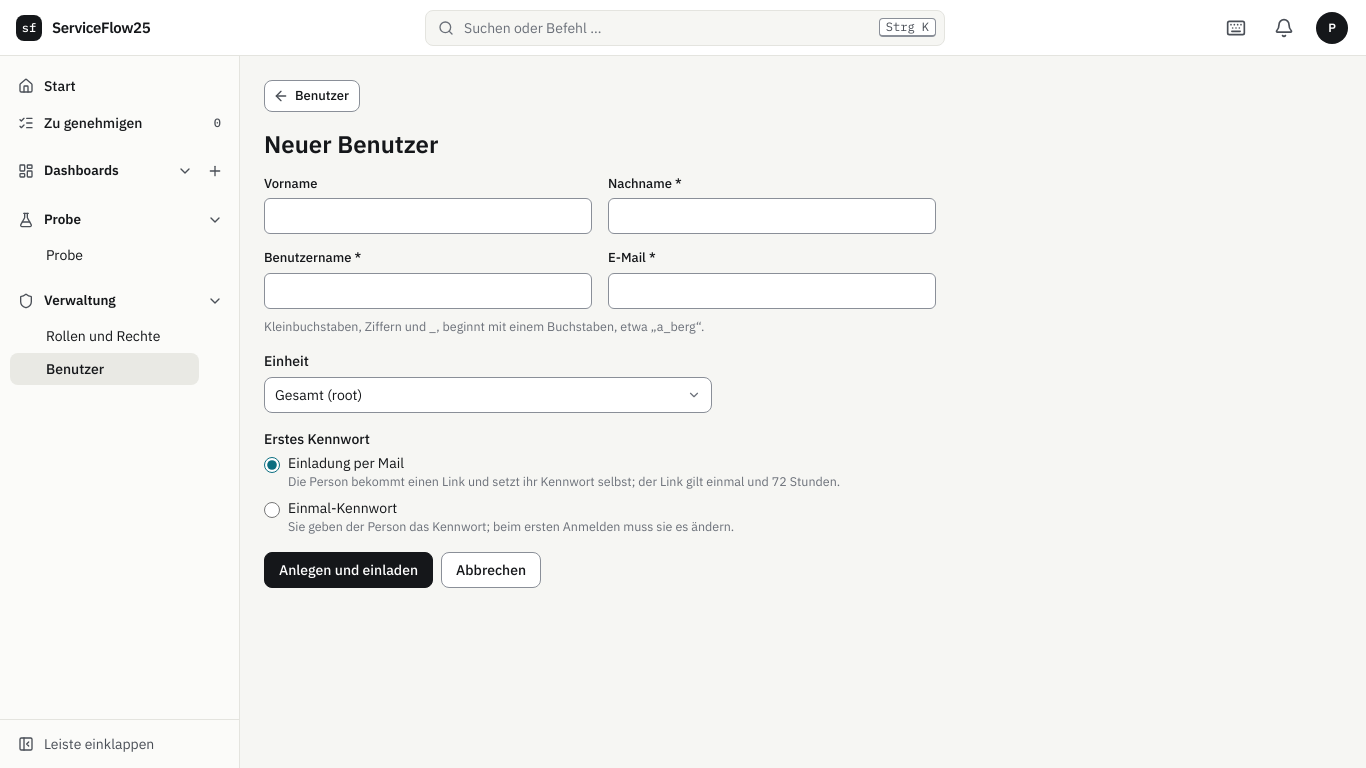
Test: UsersPage › says without a mail server that an invitation cannot go out
Check: the heading "Neuer Benutzer" is shown, box [264, 128, 438, 160]
Type "Ohne" into the field labelled "Nachname *" at [772, 216], box [608, 198, 936, 234]
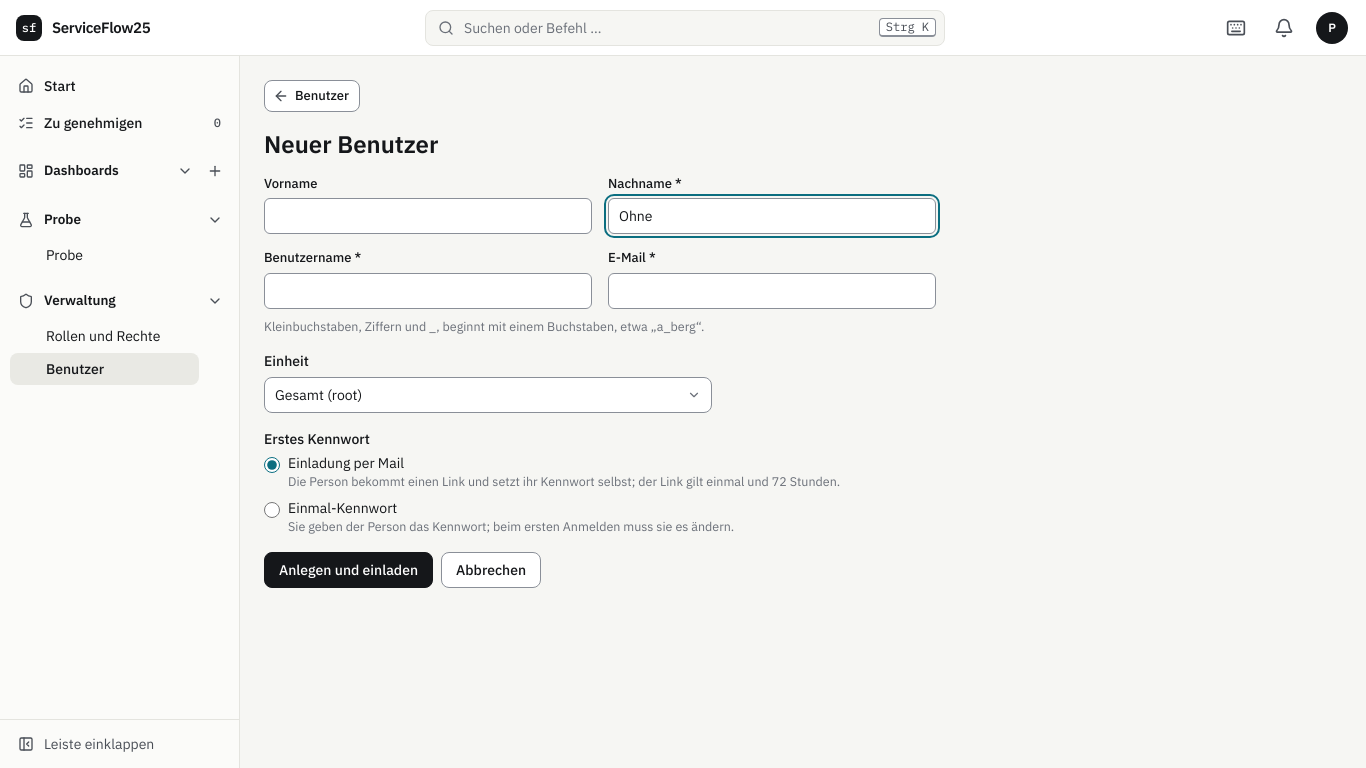
Type "o_mail" into the field labelled "Benutzername *" at [428, 290], box [264, 272, 592, 308]
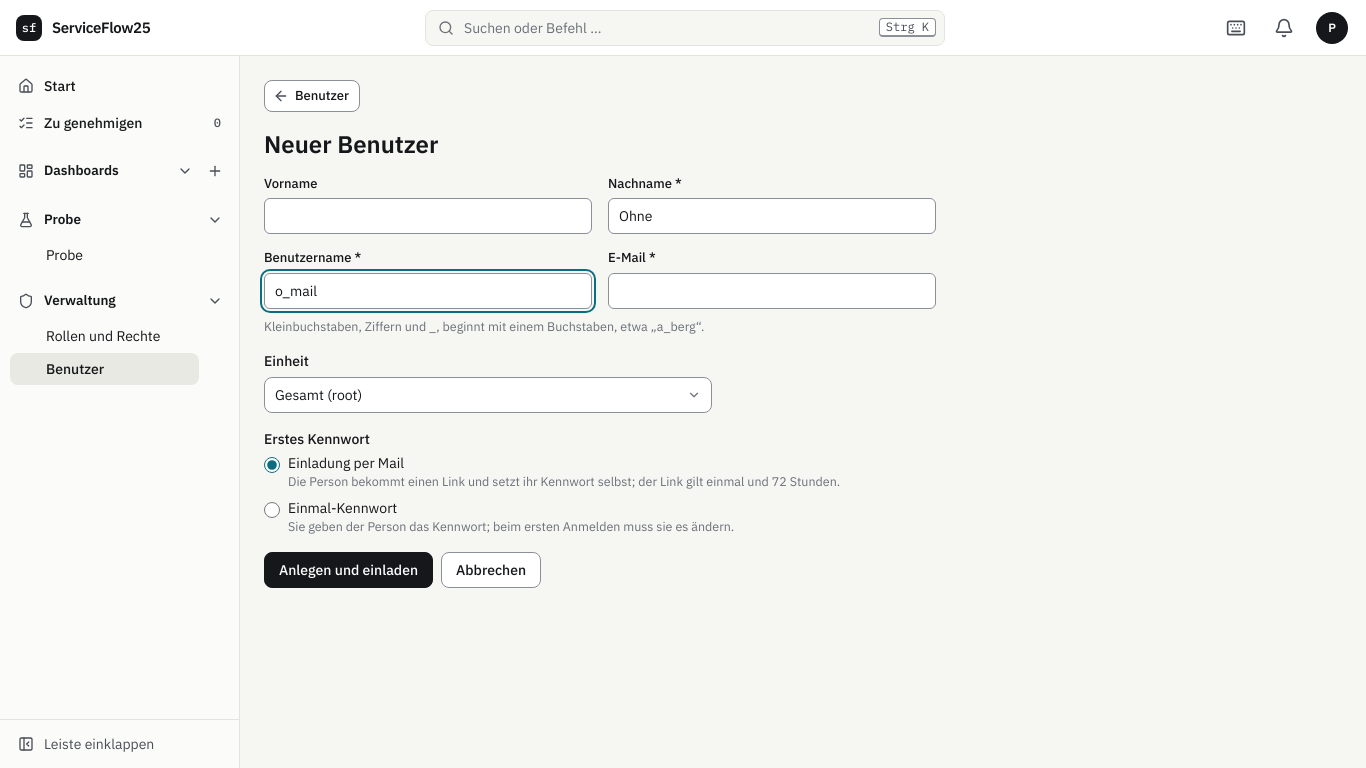
Type "ohne@example.test" into the field labelled "E-Mail *" at [772, 290], box [608, 272, 936, 308]
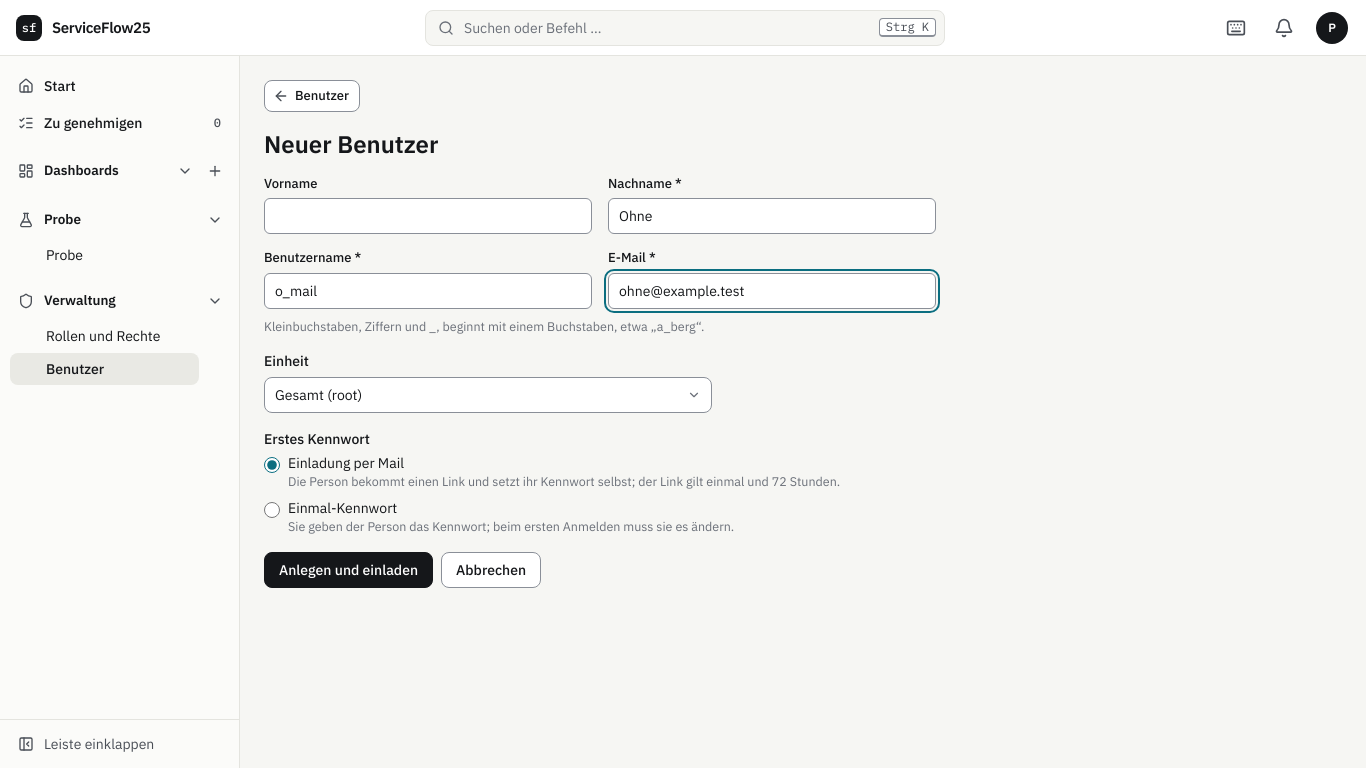
Click the button "Anlegen und einladen" at [349, 570], box [264, 552, 433, 588]
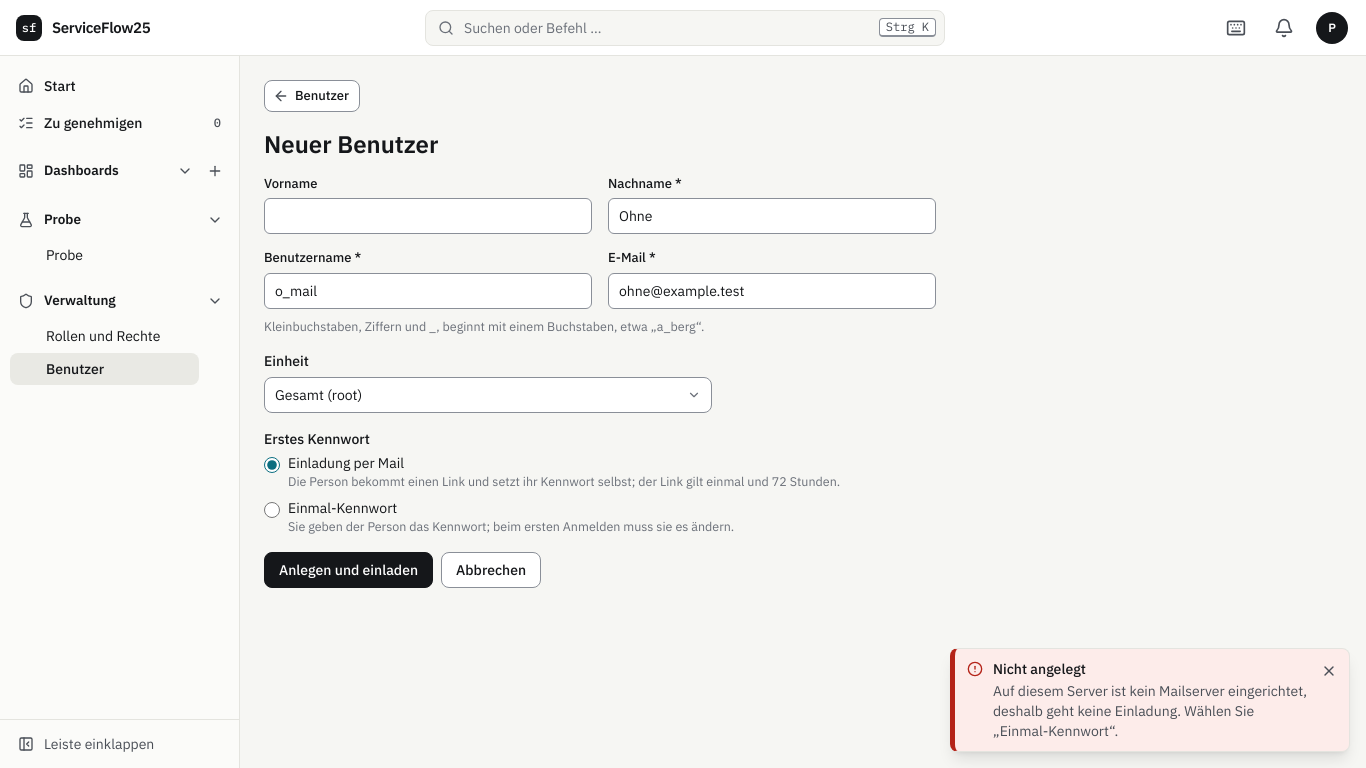
Check: the text "kein Mailserver eingerichtet" is shown, box [993, 682, 1307, 740]
